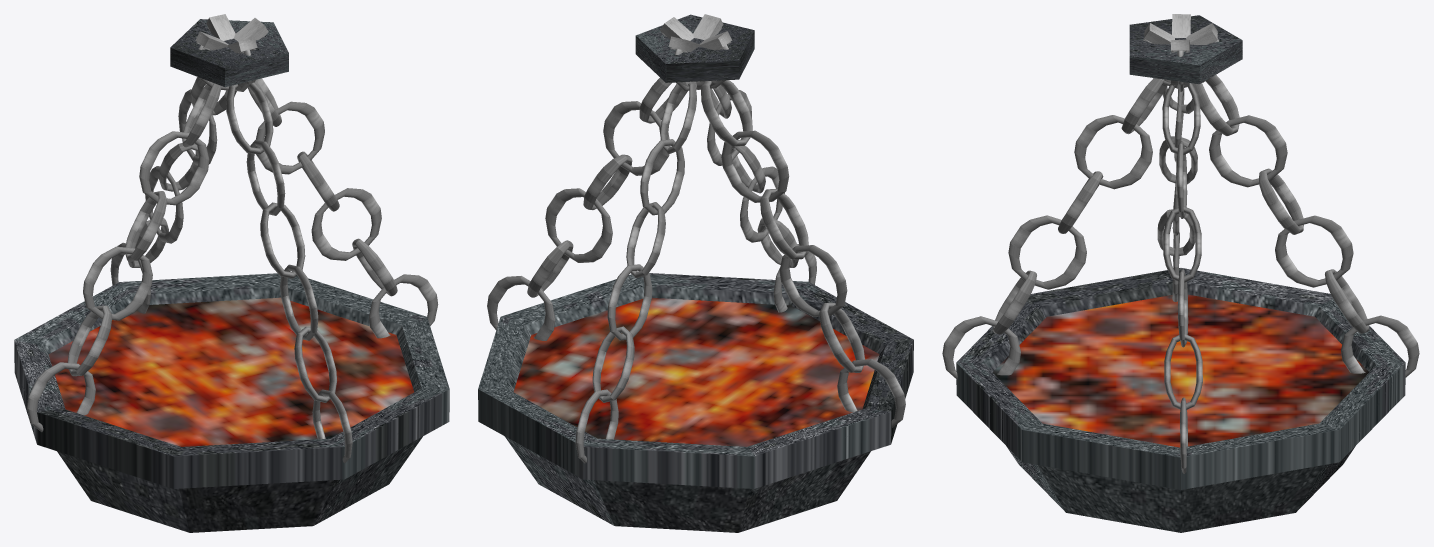
Rendered from hanging brazier.fbx.
3 renders of one model, left to right at view 1: azimuth 30°, elevation 25°; view 2: azimuth 150°, elevation 25°; view 3: azimuth 270°, elevation 25°, orthographic.
Parts seen in each view (by area): view 1: Sphere, Cylinder.001, Cube.001, Cube.003, Cube.004, Cylinder, Cube.002; view 2: Sphere, Cylinder.001, Cube.001, Cube.004, Cube.002, Cylinder, Cube.003; view 3: Sphere, Cylinder.001, Cube.002, Cube.003, Cube.004, Cylinder, Cube.001.
Boxes of the visible parts, left/top/right/bottom form: Sphere: left=14, top=273, right=449, bottom=532; Cylinder.001: left=48, top=297, right=413, bottom=446; Cube.001: left=27, top=31, right=229, bottom=431; Cube.003: left=226, top=37, right=352, bottom=462; Cube.004: left=207, top=18, right=438, bottom=338; Cylinder: left=170, top=19, right=288, bottom=87; Cube.002: left=110, top=14, right=255, bottom=313; Sphere: left=478, top=273, right=913, bottom=532; Cylinder.001: left=513, top=297, right=879, bottom=446; Cube.001: left=697, top=31, right=905, bottom=427; Cube.004: left=487, top=17, right=719, bottom=340; Cube.002: left=575, top=36, right=699, bottom=463; Cylinder: left=635, top=14, right=754, bottom=82; Cube.003: left=681, top=14, right=816, bottom=312; Sphere: left=956, top=268, right=1405, bottom=532; Cylinder.001: left=992, top=294, right=1369, bottom=447; Cube.002: left=1165, top=23, right=1419, bottom=377; Cube.003: left=942, top=23, right=1186, bottom=379; Cube.004: left=1162, top=39, right=1202, bottom=473; Cylinder: left=1129, top=15, right=1242, bottom=84; Cube.001: left=1157, top=14, right=1197, bottom=301.
Size of the model in its own units: 213 by 236 by 213.
